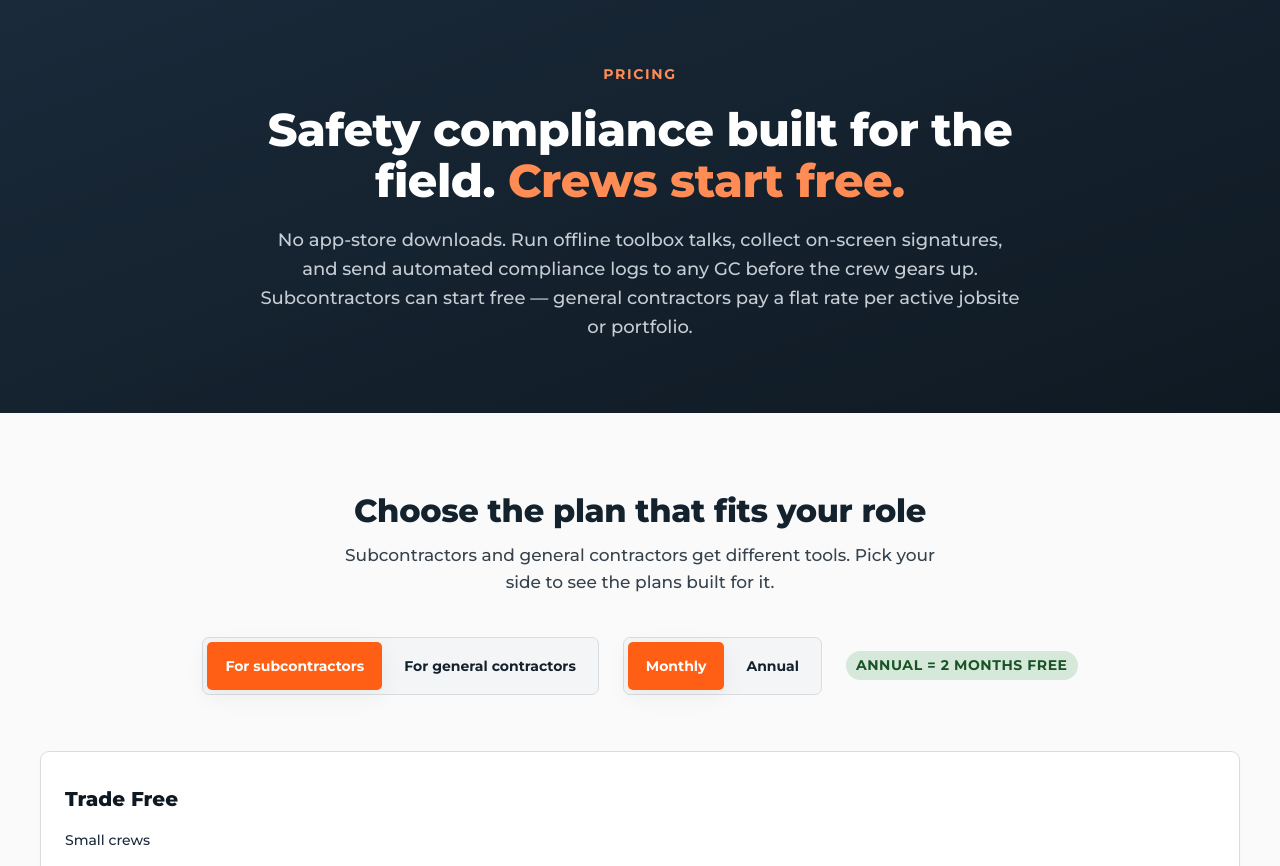
it: Pricing page › switches audience with the toggle
Click the button "For general contractors". click: (490, 666)
box: [386,642,594,690]
(page scrolled)
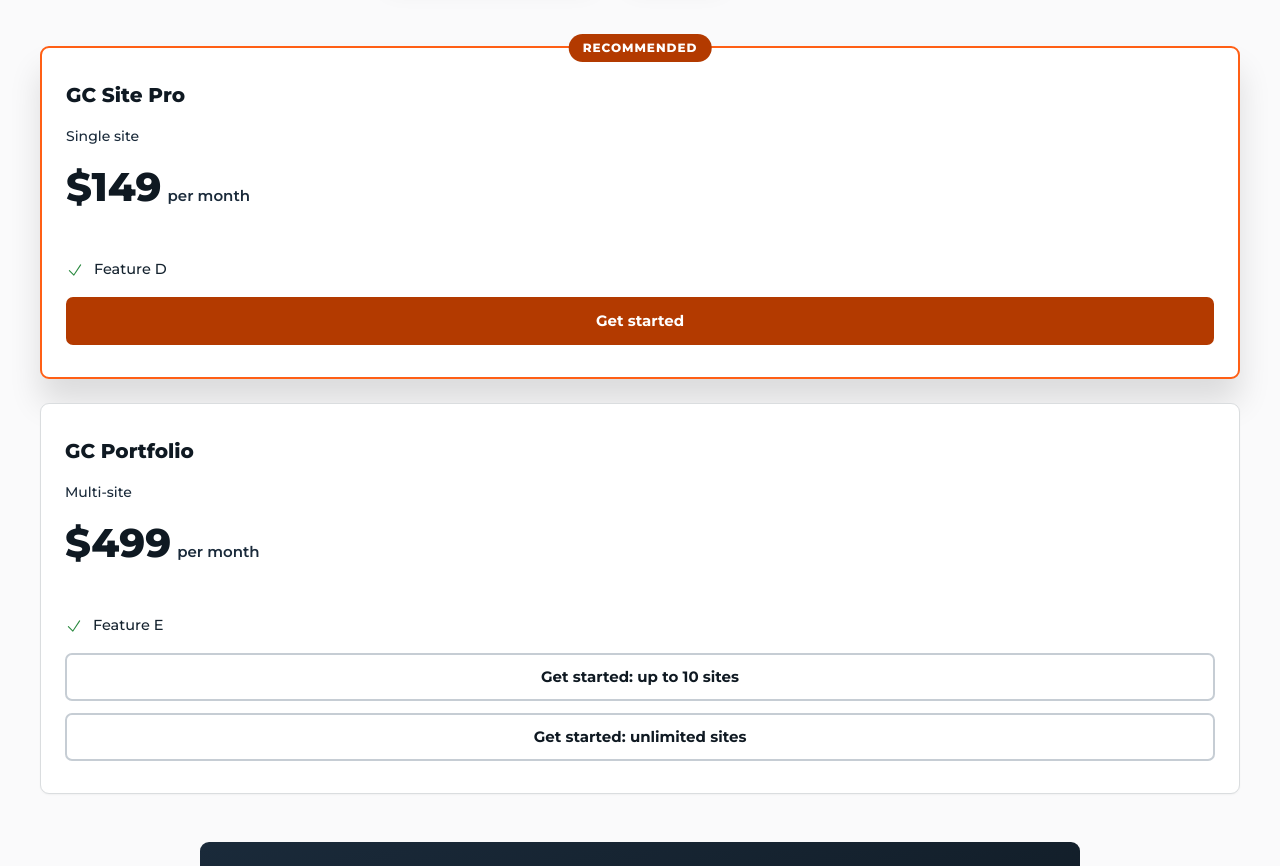
Now the heading "GC Portfolio" is shown, box [65,439,194,463]
